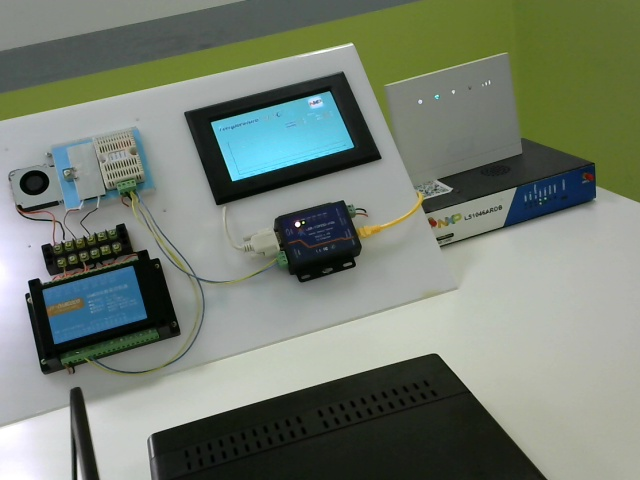fan: (3, 158, 61, 217)
relay: (33, 272, 188, 371)
termperature: (272, 205, 374, 281)
